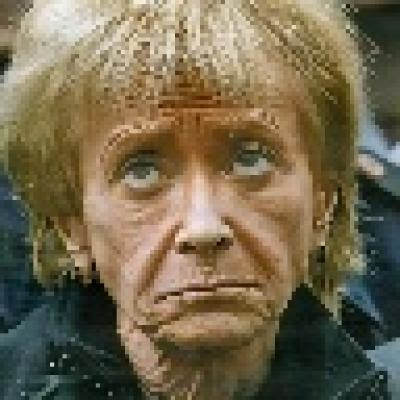sad: (78, 60, 318, 348)
